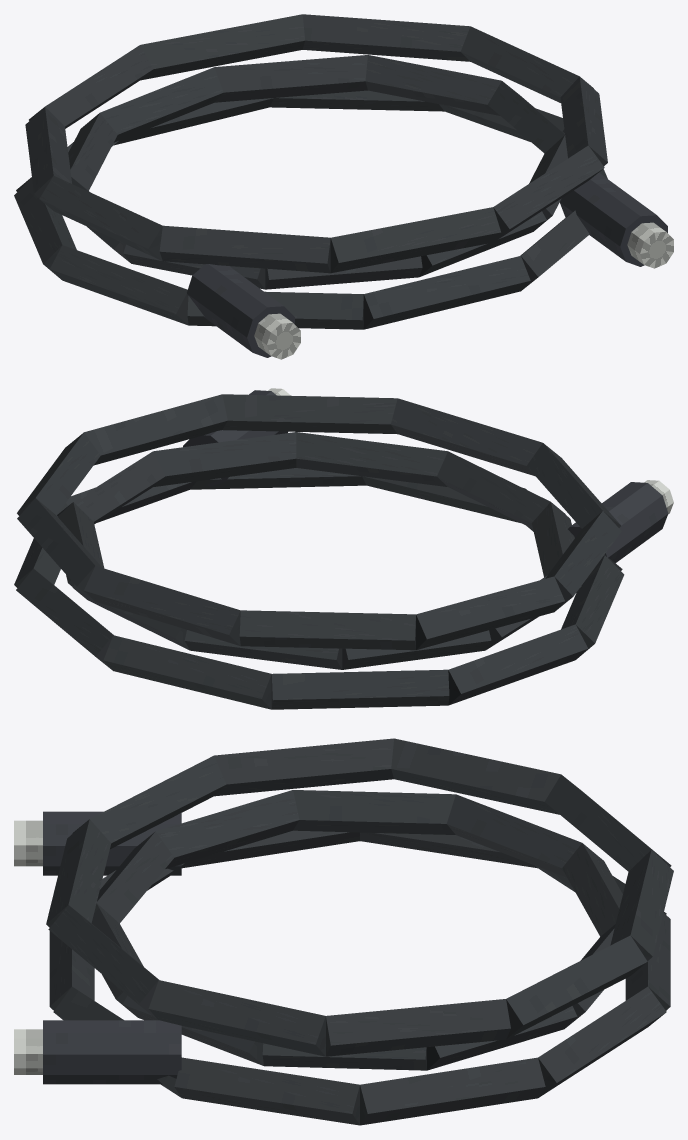
Rendered from cable_instrument.glb.
3 views of the same model, one above another, from view 1: azimuth 30°, elevation 25°; view 2: azimuth 150°, elevation 25°; view 3: azimuth 270°, elevation 25° (orthographic). The views are drawn at different scales.
Parts seen in each view (by area): view 1: block_connector shell (×2), block_coiled length2-0, block_coiled length2-9, block_coiled length0-2, block_coiled length2-5, block_coiled length2-4, block_coiled length1-6, block_coiled length0-4, block_coiled length1-7, block_coiled length2-1, block_coiled length1-5, block_coiled length2-6 (+17 smaller); view 2: block_coiled length0-6, block_coiled length2-3, block_coiled length2-8, block_coiled length0-7, block_coiled length2-4, block_coiled length1-0, block_coiled length2-2, block_coiled length2-9, block_coiled length1-9, block_coiled length0-5, block_coiled length2-7, block_connector shell (×2) (+18 smaller); view 3: block_connector shell (×2), block_coiled length2-6, block_coiled length0-9, block_coiled length0-0, block_coiled length2-1, block_coiled length2-7, block_coiled length2-2, block_coiled length1-3, block_coiled length2-5, block_coiled length1-2, block_coiled length1-4, block_coiled length2-0 (+18 smaller).
Boxes of the visible parts, x1,y1,x2,y2 form: block_connector shell (×2): (187, 173, 667, 357); block_coiled length2-0: (159, 225, 330, 273); block_coiled length2-9: (330, 207, 501, 273); block_coiled length0-2: (363, 256, 530, 329); block_coiled length2-5: (302, 14, 470, 61); block_coiled length2-4: (140, 14, 305, 80); block_coiled length1-6: (214, 55, 367, 102); block_coiled length0-4: (50, 245, 188, 325); block_coiled length1-7: (365, 55, 501, 115); block_coiled length2-1: (39, 176, 162, 260); block_coiled length1-5: (100, 67, 223, 142); block_coiled length2-6: (460, 26, 593, 102); block_coiled length0-6: (271, 669, 449, 709); block_coiled length2-3: (239, 610, 415, 650); block_coiled length2-8: (222, 394, 397, 434); block_coiled length0-7: (103, 635, 271, 709); block_coiled length2-4: (84, 566, 240, 645); block_coiled length1-0: (296, 432, 447, 486); block_coiled length2-2: (416, 576, 564, 650); block_coiled length2-9: (391, 398, 542, 475); block_coiled length1-9: (153, 432, 296, 486); block_coiled length0-5: (448, 624, 588, 705); block_coiled length2-7: (84, 394, 227, 465); block_connector shell (×2): (183, 390, 668, 563); block_connector shell (×2): (43, 811, 181, 1084); block_coiled length2-6: (326, 999, 510, 1056); block_coiled length0-9: (360, 1057, 545, 1125); block_coiled length0-0: (174, 1057, 359, 1125); block_coiled length2-1: (214, 738, 393, 796); block_coiled length2-7: (148, 980, 325, 1056); block_coiled length2-2: (391, 738, 560, 814); block_coiled length1-3: (293, 790, 455, 834); block_coiled length2-5: (506, 935, 647, 1039); block_coiled length1-2: (156, 790, 299, 868); block_coiled length1-4: (446, 794, 581, 877); block_coiled length2-0: (72, 755, 226, 849).
Size of the model in its own units: 0.2475 by 0.0405 by 0.2284.
1 material, 1 textured.
